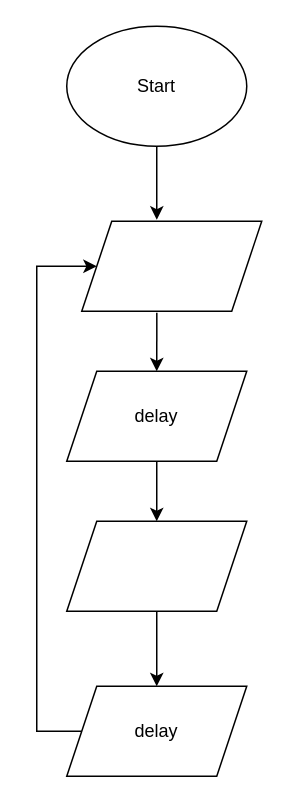
The diagram is 288 pixels wide and 803 high, and some of its shapes have lost their labels. Each missing label, with the centre of its shape:
LED off: (x=156, y=565)
LED on: (x=171, y=265)
